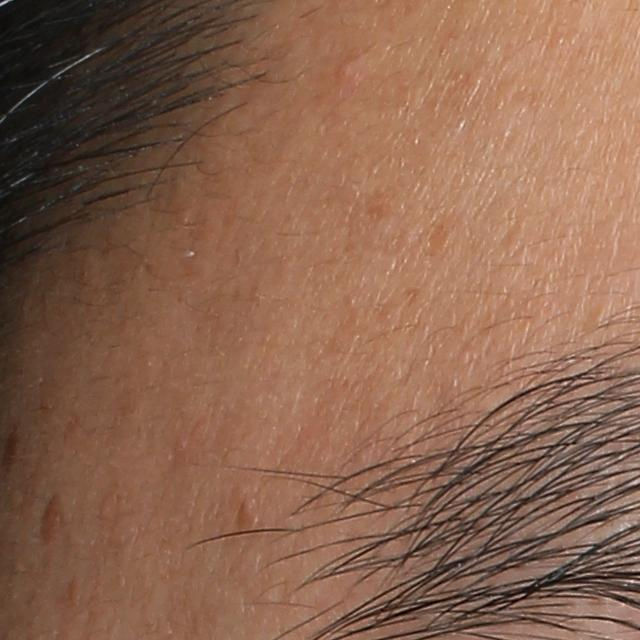papule: (336, 60, 355, 80)
